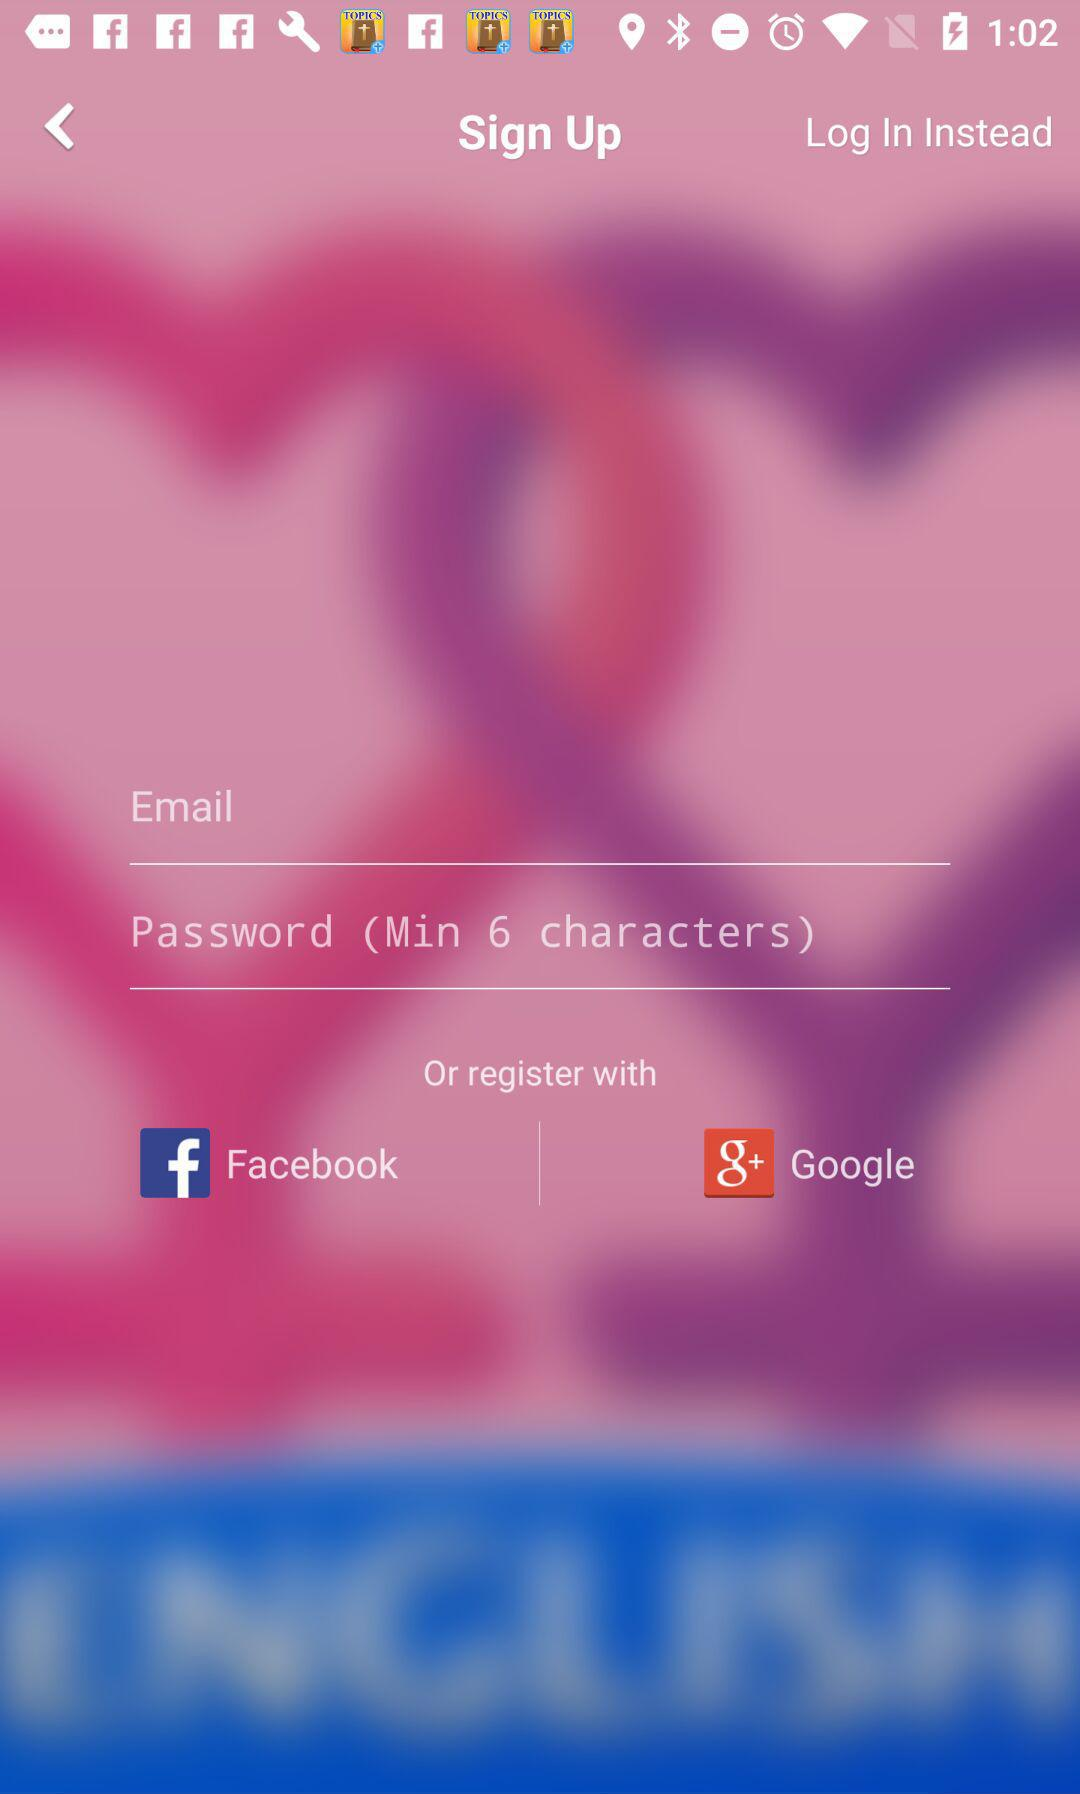EditText: (129, 912, 951, 991), (129, 789, 951, 868)
Icon: (140, 1128, 211, 1199), (705, 1128, 775, 1199), (44, 103, 77, 152)
Text: (133, 912, 814, 955), (807, 115, 1053, 158), (424, 1057, 659, 1096), (457, 113, 623, 161), (228, 1147, 398, 1181), (790, 1147, 915, 1189), (133, 789, 232, 824)
UpperTaskBar: (1, 1, 1080, 64)
